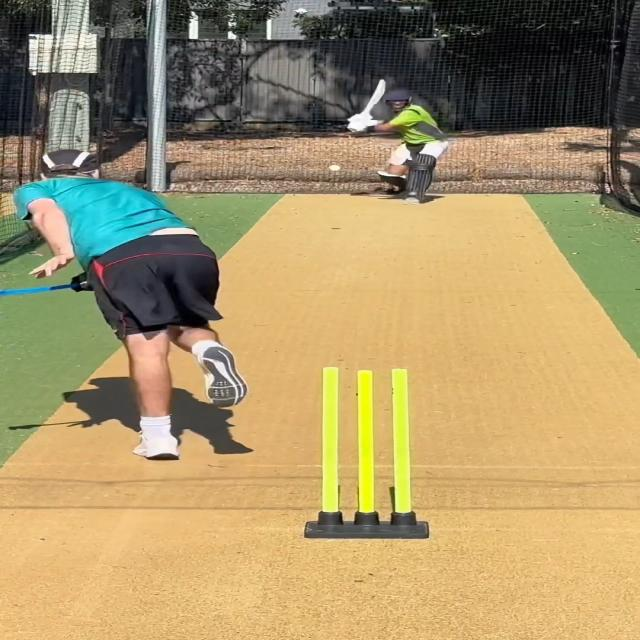ball: (327, 163, 343, 174)
stump: (304, 362, 428, 540)
